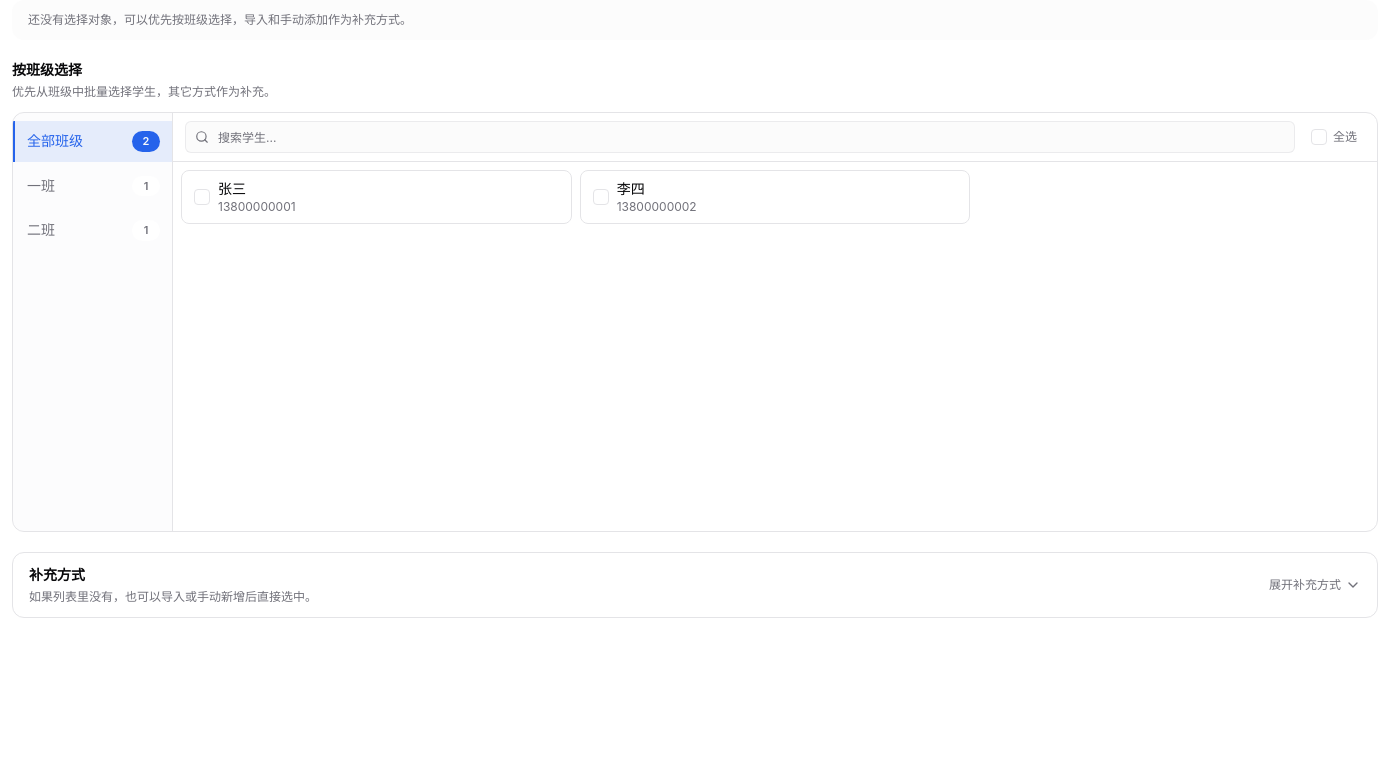
StudentSelector › can render supplement methods collapsed by default and expand them on demand
Expected: the tab "Excel 导入" is not shown
What coordinates should you click on to do the following:
click the button "补充方式 如果列表里没有，也可以导入或手动新增后直接选中。 展开补充方式"
I would click on:
 (57, 574)
Its box is top-left (13, 553), bottom-right (1377, 617).
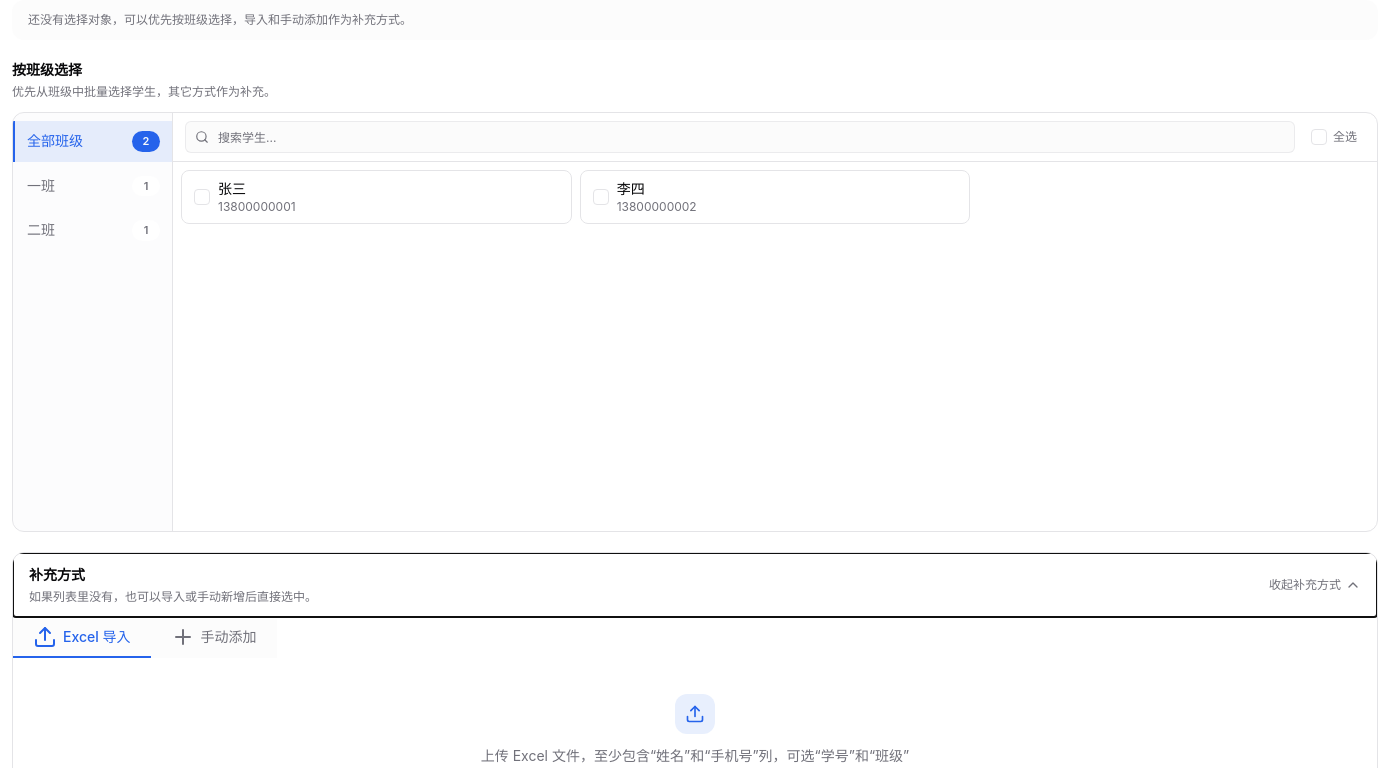
Expected: the tab "Excel 导入" is shown, top-left (13, 618), bottom-right (150, 658)
